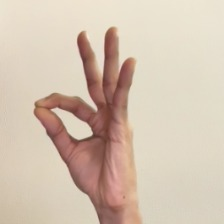F: (19, 20, 168, 219)
